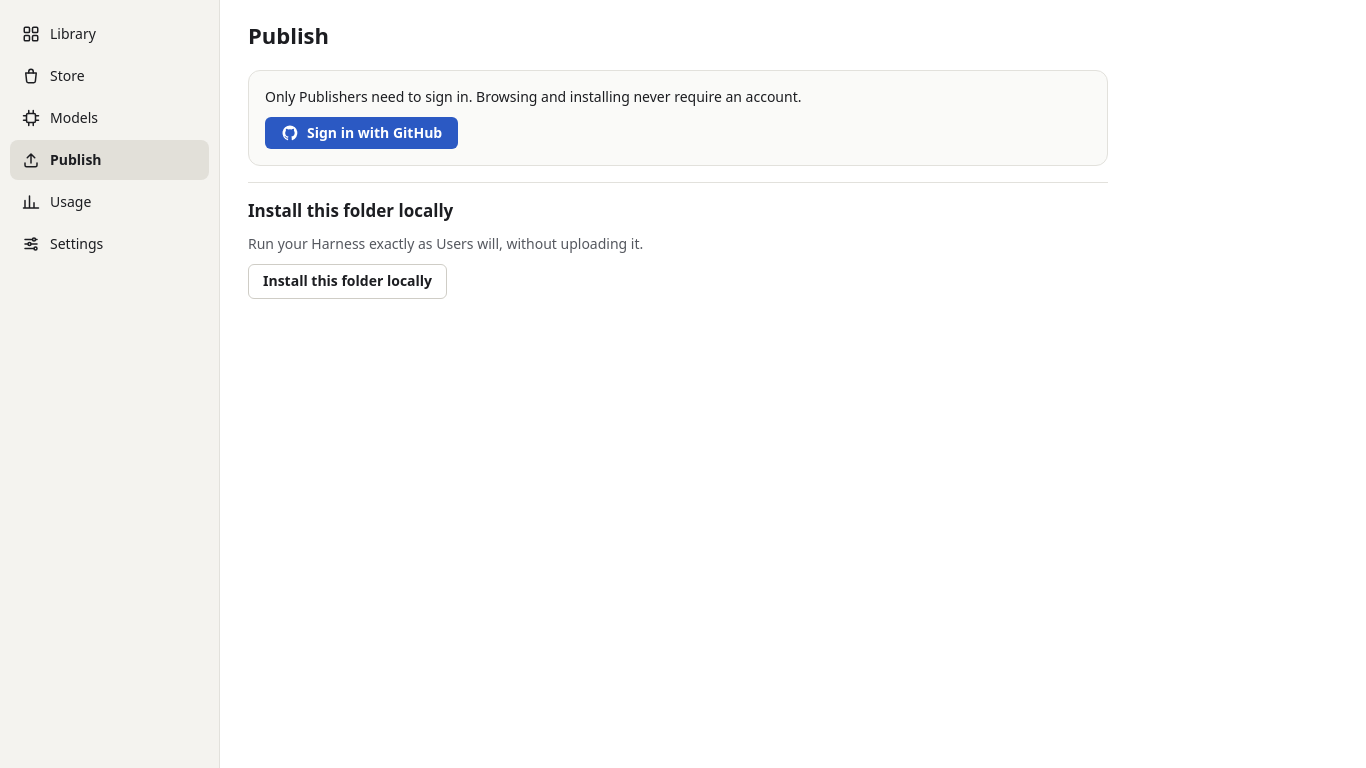
Publish screen sign-in › waits for the browser with Cancel, which cancels the sign-in without an error
Click the button "Sign in with GitHub" at (362,133), box [265,117,458,150]
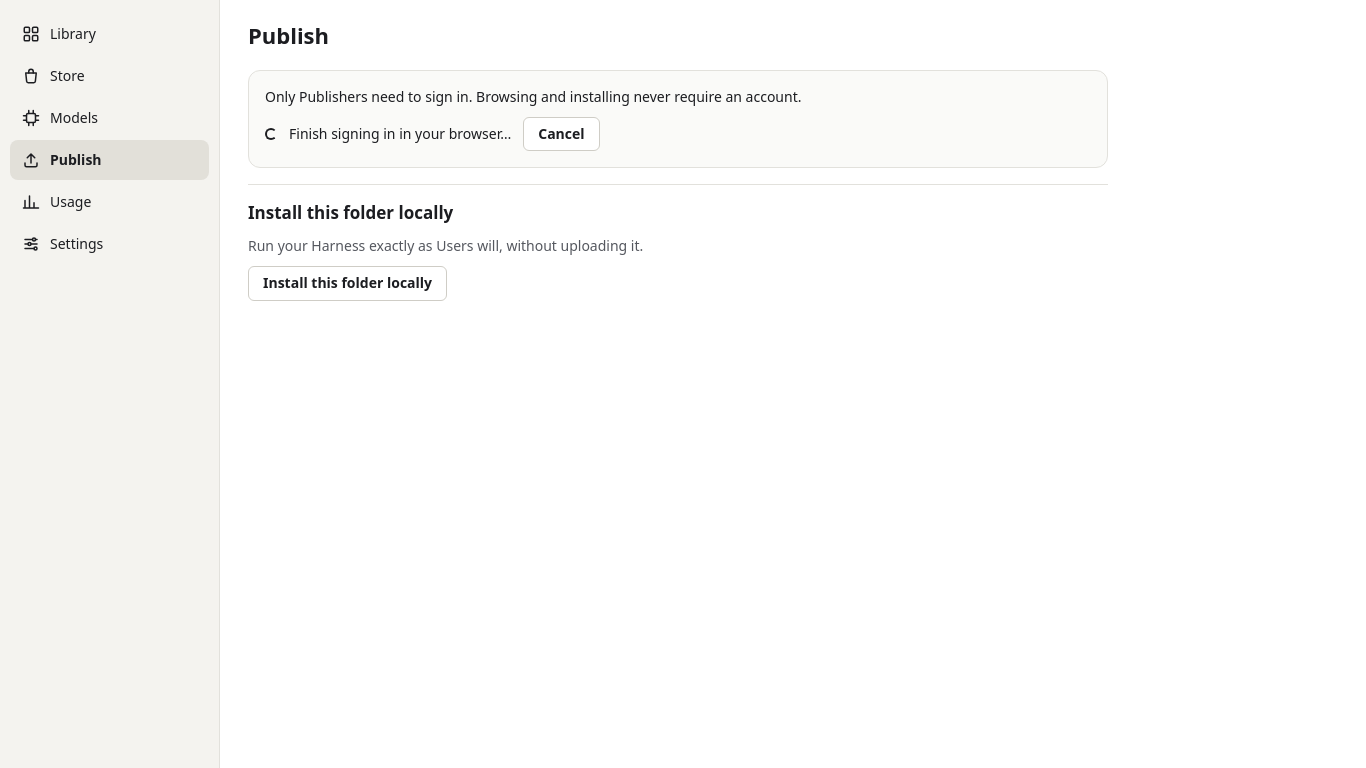
Result: the text "Finish signing in in your browser…" is shown at [289,124,511,144]
Click the button "Cancel" at (561,134), box [523,117,600,152]
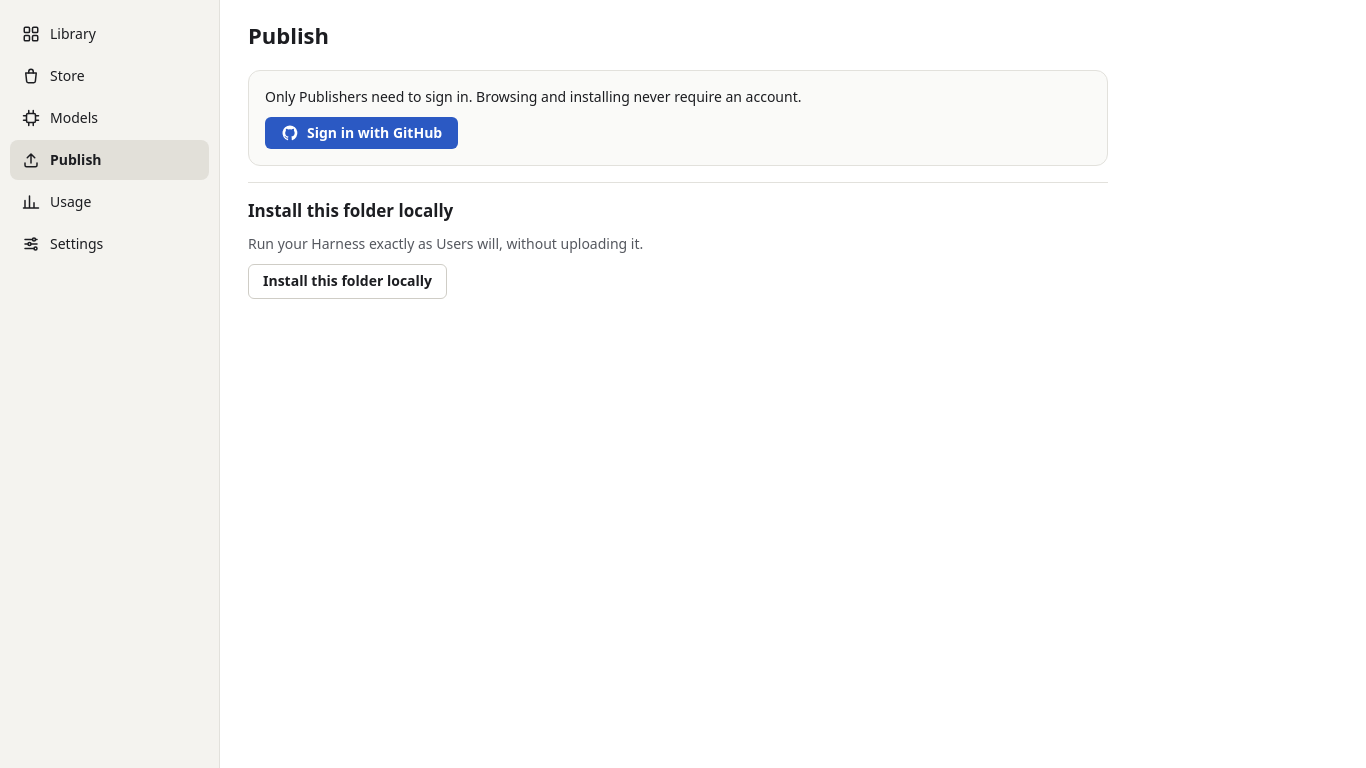
Result: the button "Sign in with GitHub" is shown at [265,117,458,150]
